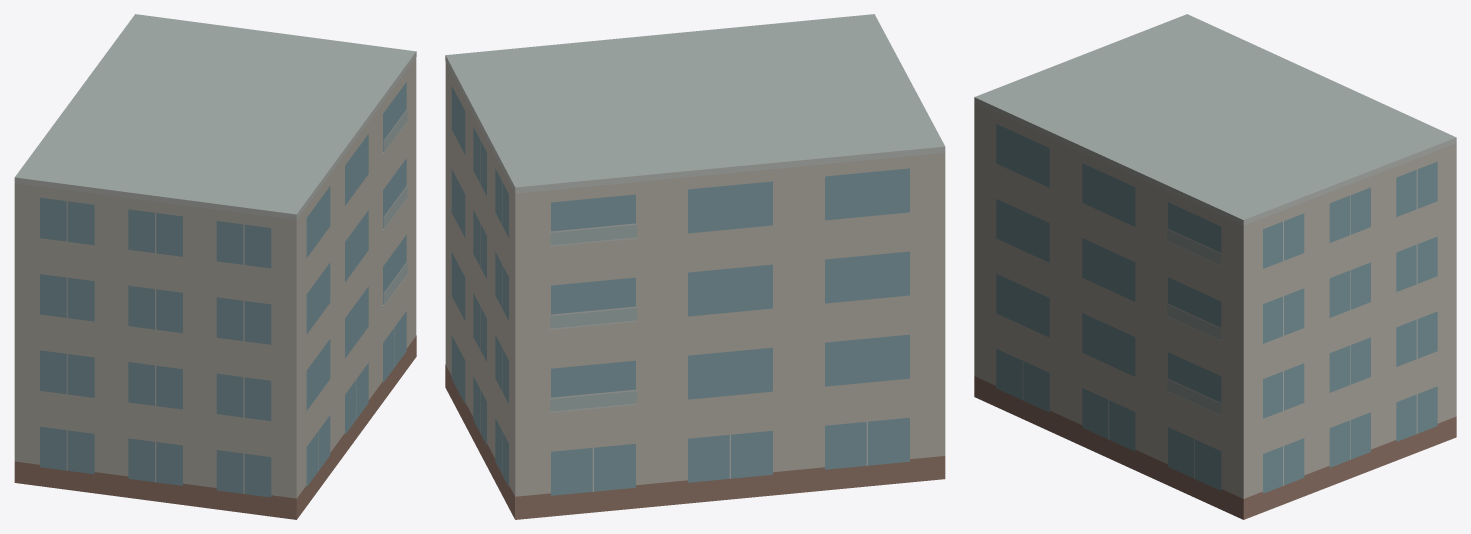
File: survey-upis-32525293.glb
3 views of the same model, side by side, from view 1: azimuth 30°, elevation 25°; view 2: azimuth 150°, elevation 25°; view 3: azimuth 270°, elevation 25° (orthographic). The views are drawn at different scales.
Visible parts, largest first — view 1: survey-upis-32525293.tmp; view 2: survey-upis-32525293.tmp; view 3: survey-upis-32525293.tmp.
Boxes of the visible parts, x1,y1,x2,y2 form: survey-upis-32525293.tmp: [14, 14, 416, 519]; survey-upis-32525293.tmp: [445, 14, 945, 519]; survey-upis-32525293.tmp: [974, 14, 1456, 519].
Bounding box in the file's own units: 19.55 × 13.25 × 19.34.
